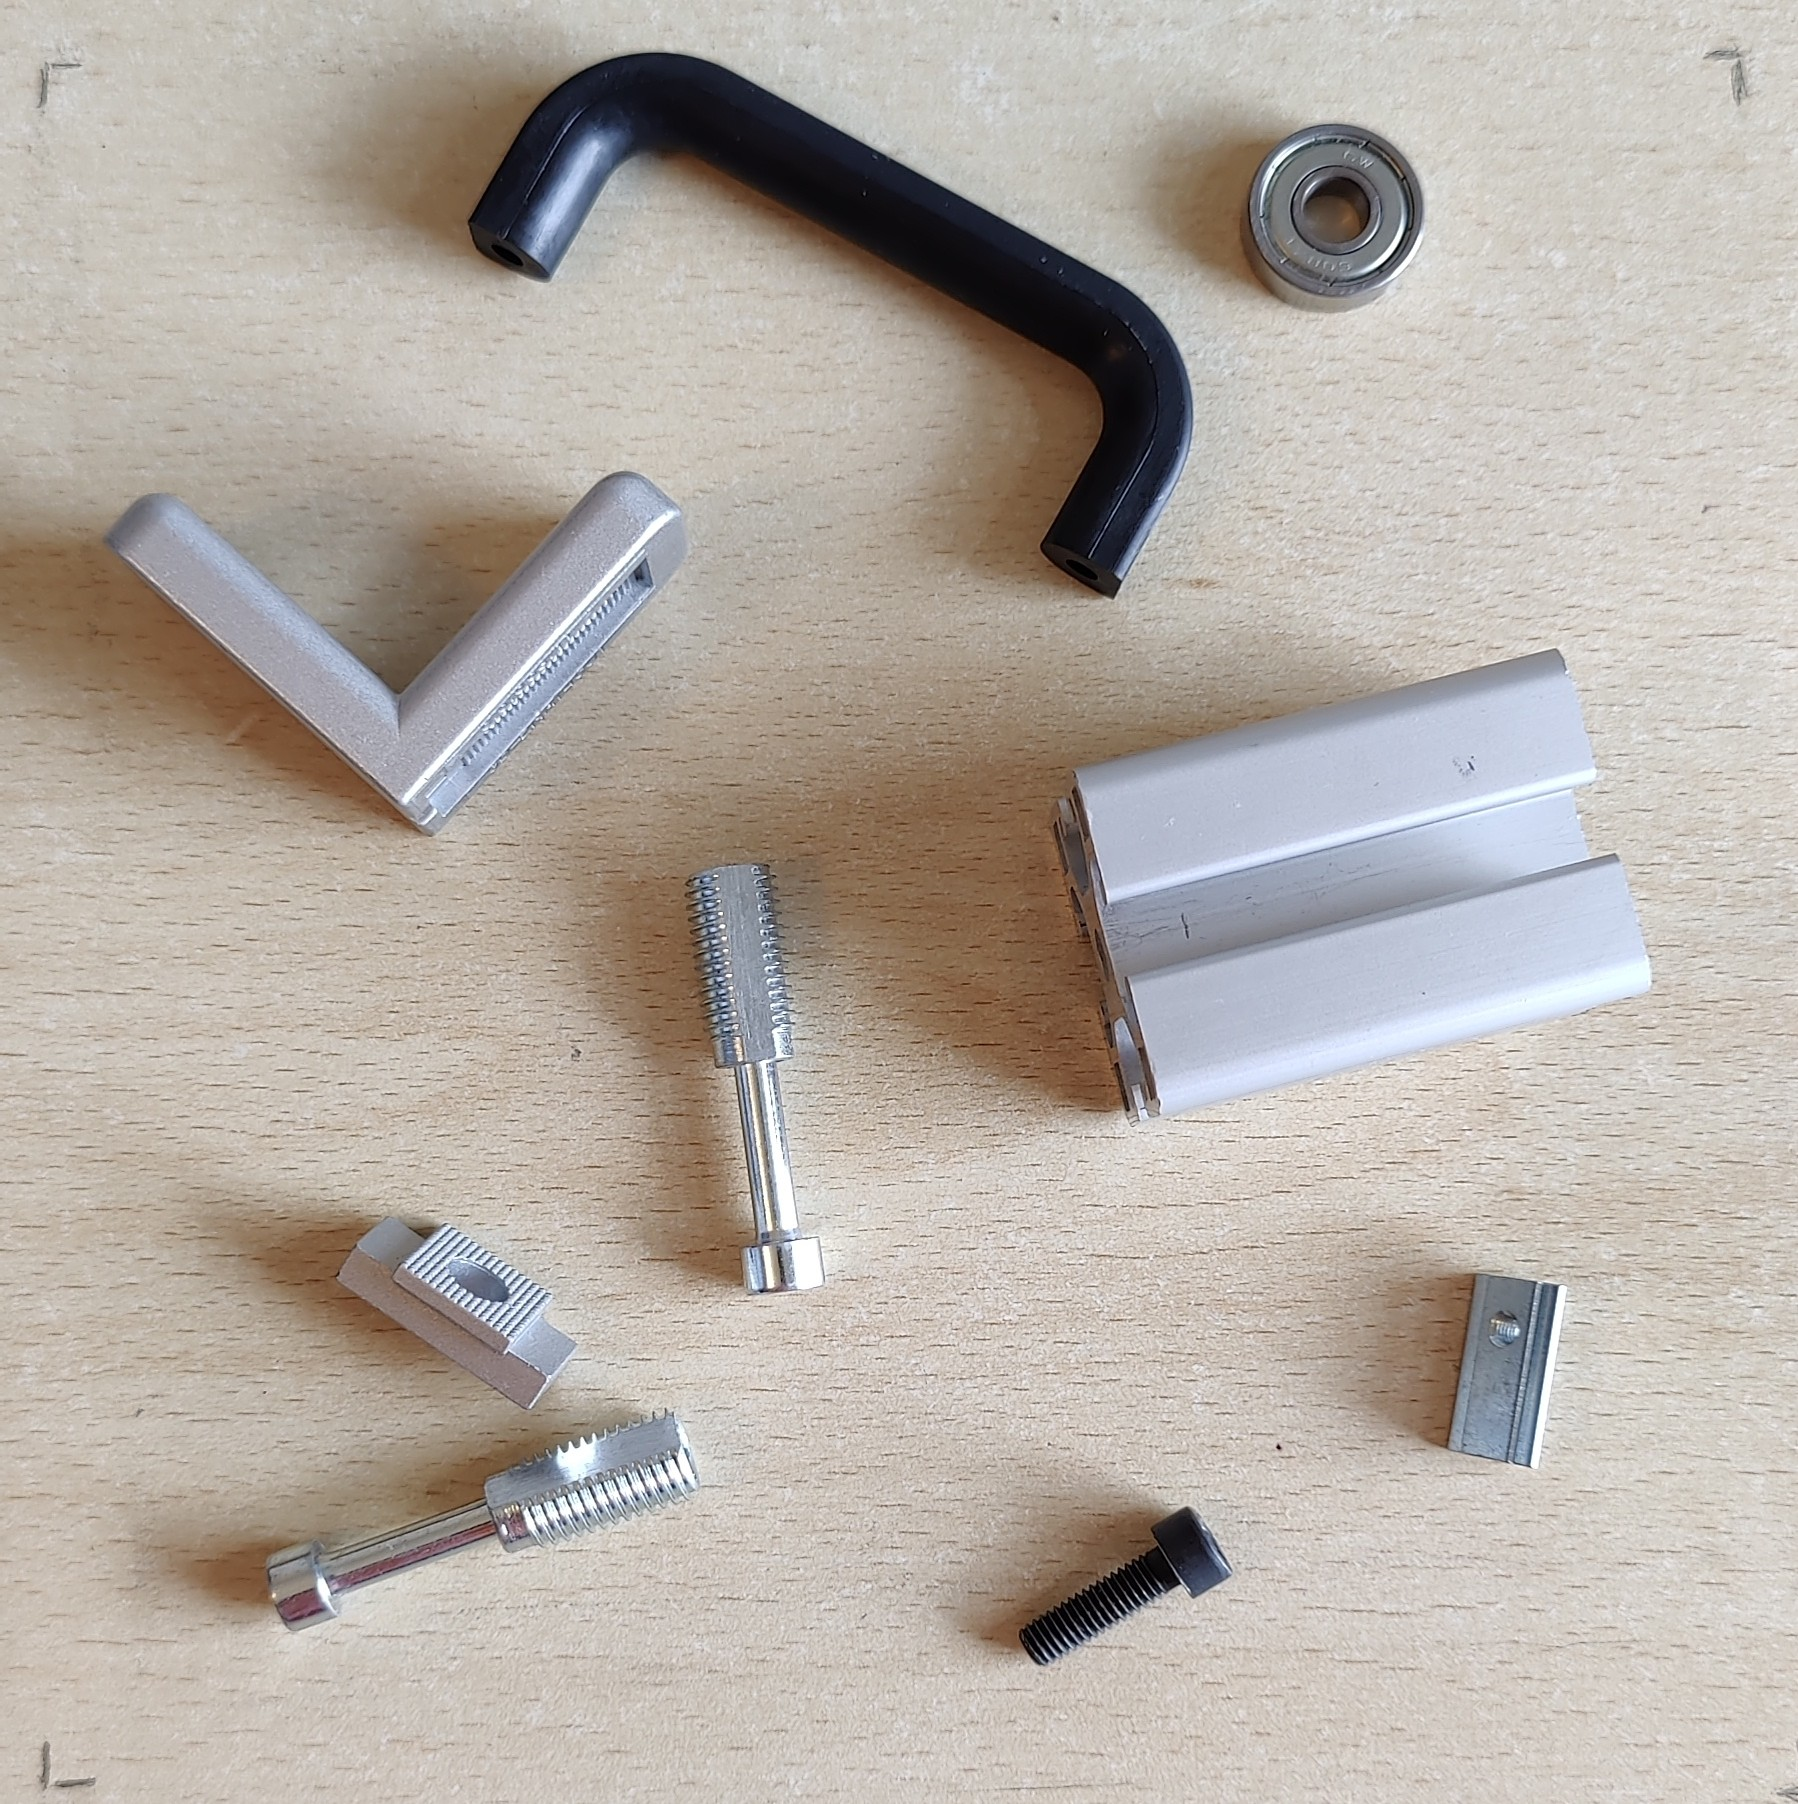Aluminium Extension: (1047, 647, 1655, 1129)
Ball Bearing: (1237, 122, 1428, 314)
Multiwinkel: (102, 466, 687, 839)
Pull Handle: (464, 51, 1195, 604)
Shoulder Socket Head Cap Screw: (263, 1406, 703, 1636), (682, 859, 828, 1300)
Socket Head Cap Screw: (1014, 1504, 1237, 1671)
T Nut Square: (333, 1211, 581, 1416)
T Spring Nut: (1444, 1271, 1569, 1475)
